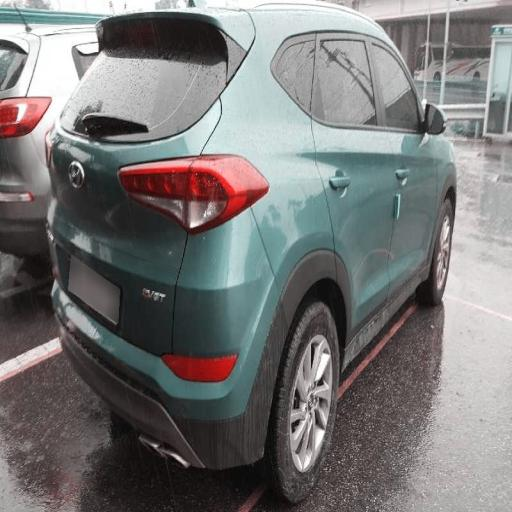scratch: (344, 197, 451, 342)
